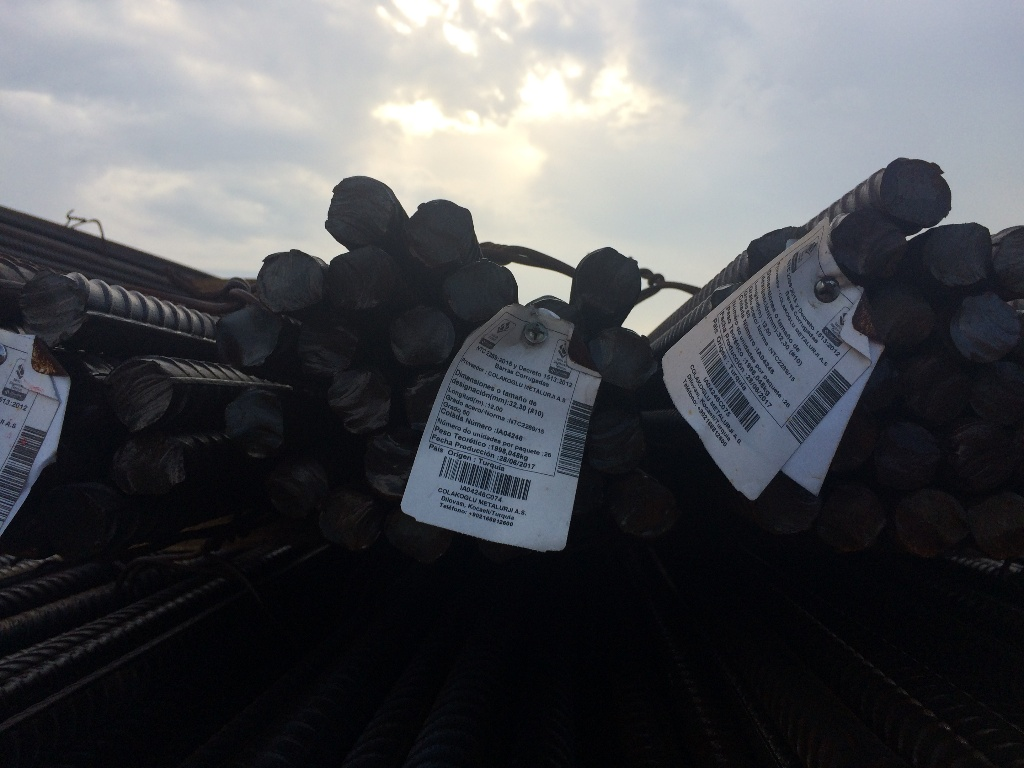dipstick: (872, 422, 944, 496), (102, 357, 171, 434), (901, 347, 967, 427), (892, 489, 970, 556), (19, 269, 83, 348), (818, 487, 889, 557), (834, 214, 912, 277), (404, 198, 475, 267), (324, 175, 396, 242), (881, 160, 953, 226), (445, 261, 519, 324), (952, 294, 1021, 361), (950, 427, 1019, 494), (751, 473, 820, 539), (224, 391, 288, 461), (588, 327, 659, 390), (927, 217, 991, 285), (314, 488, 384, 550), (327, 369, 393, 434), (328, 248, 395, 311), (216, 309, 283, 372), (388, 307, 456, 369), (578, 247, 641, 313), (256, 250, 322, 312), (614, 477, 680, 538), (380, 509, 454, 562), (873, 288, 935, 350), (266, 461, 329, 521), (587, 411, 646, 474), (299, 315, 359, 375), (365, 429, 417, 496), (973, 360, 1024, 427), (972, 492, 1024, 551), (110, 437, 158, 493), (404, 376, 446, 427), (158, 439, 196, 485)
